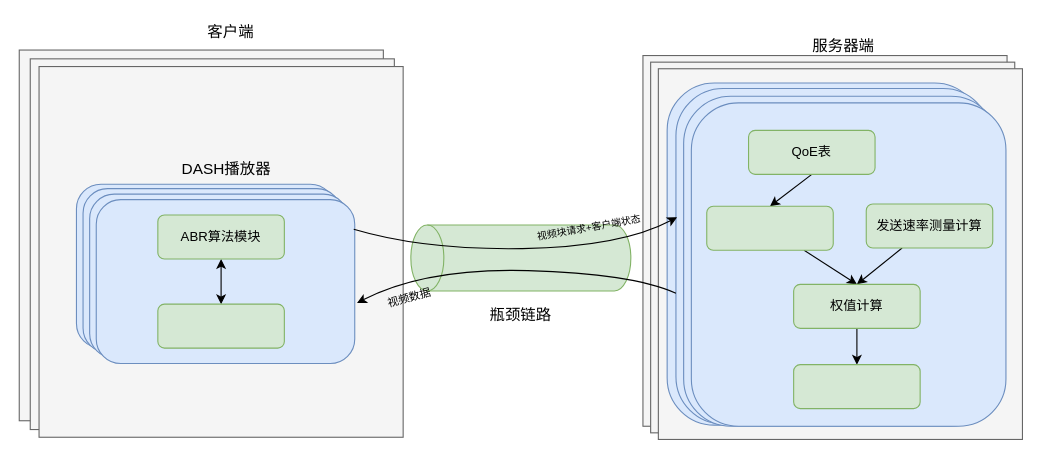
The diagram is 1042 pixels wide and 459 high, and some of its shapes have lost their labels. Each missing label, with the centre of its shape:
Cubic参数更改: [856,386]
播放器: [220,325]
效用函数计算: [769,227]
